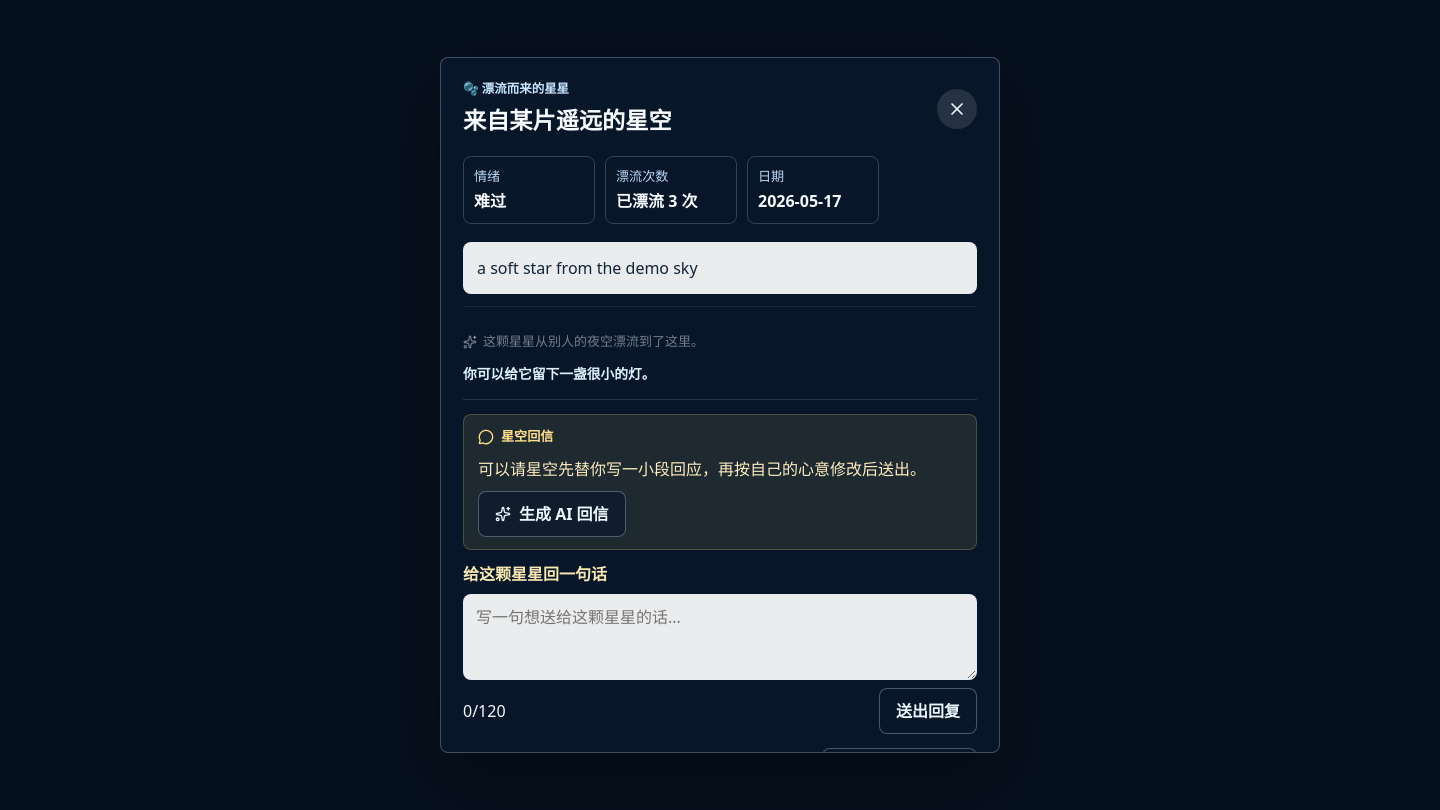
Test: drift star identity and replies › receivedDrift stars can generate an AI reply
Click the button "生成 AI 回信". click: (552, 514)
box: top-left (478, 491), bottom-right (626, 537)
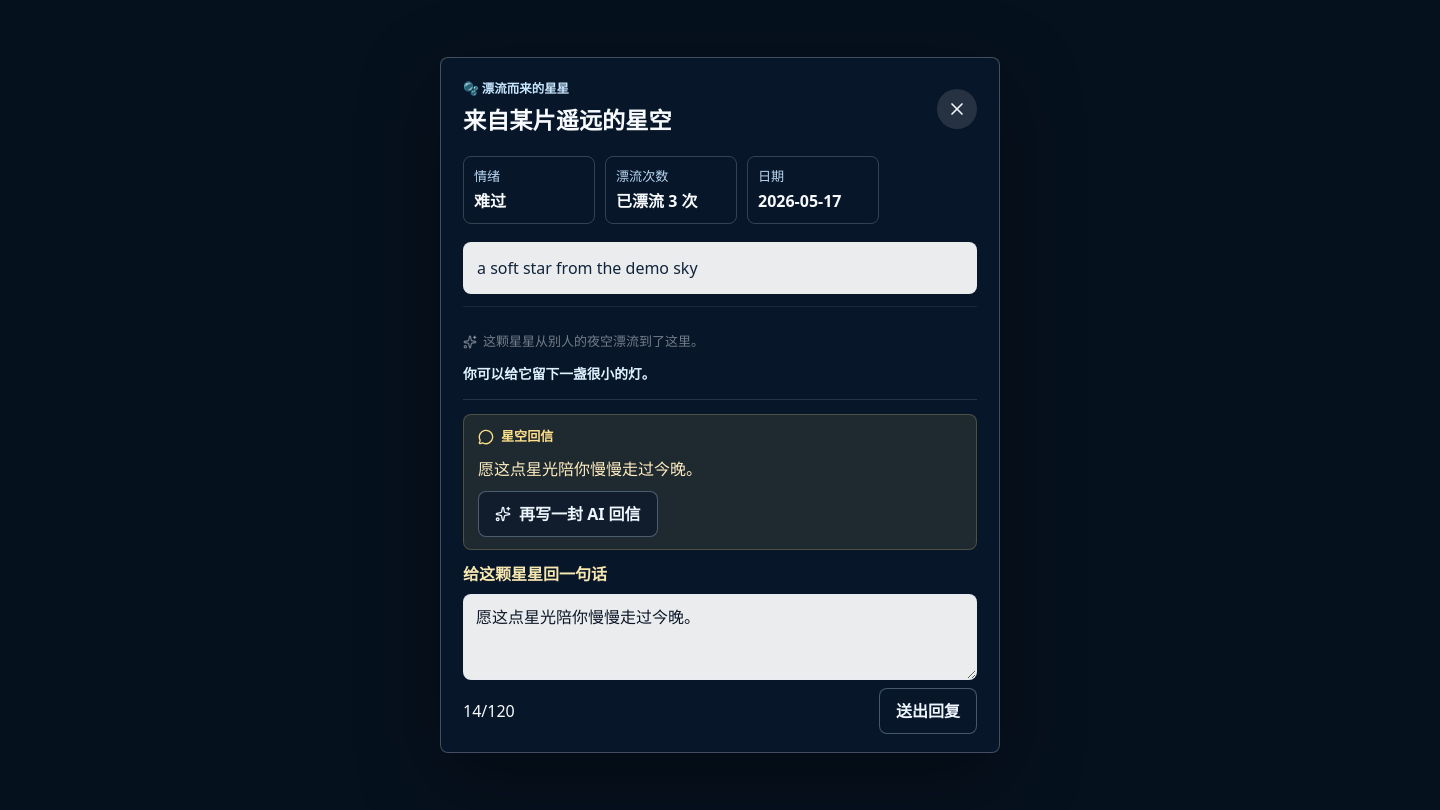
expect the text box labelled "给这颗星星回一句话" holds "愿这点星光陪你慢慢走过今晚。": met, box top-left (463, 594), bottom-right (977, 680)
